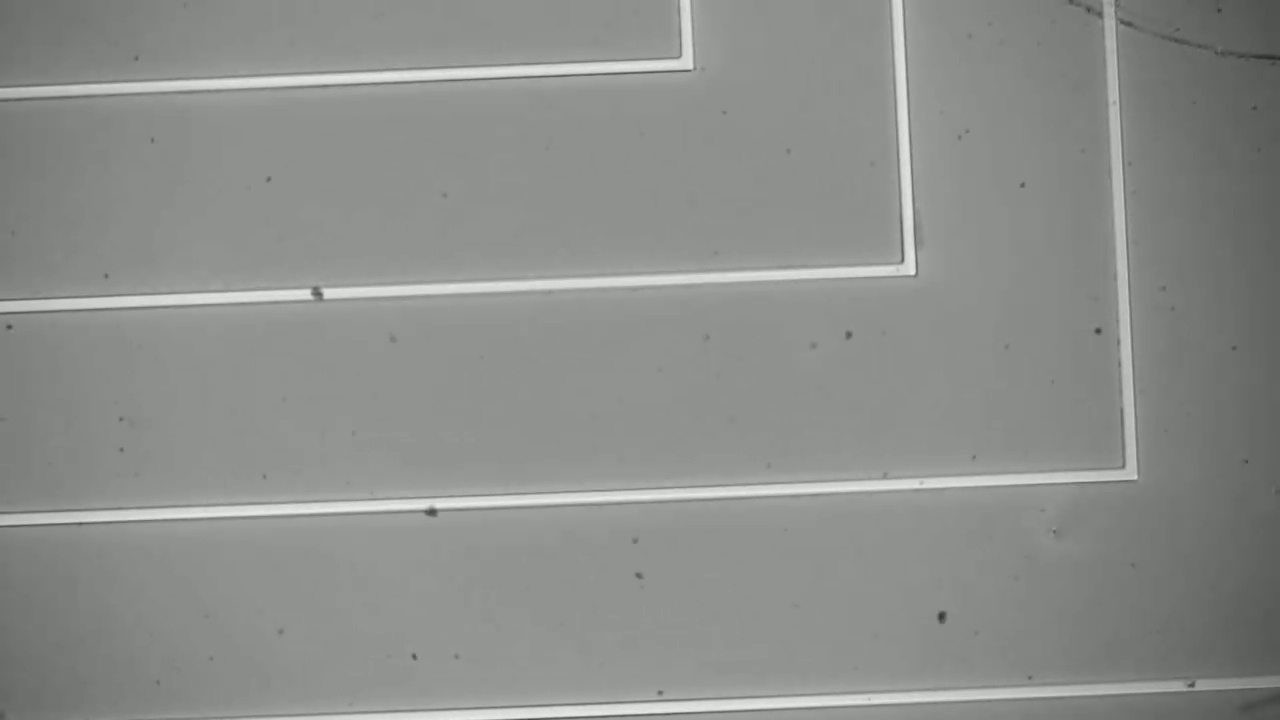scratch: (1055, 0, 1279, 68)
stains_enbedded: (305, 281, 325, 310)
